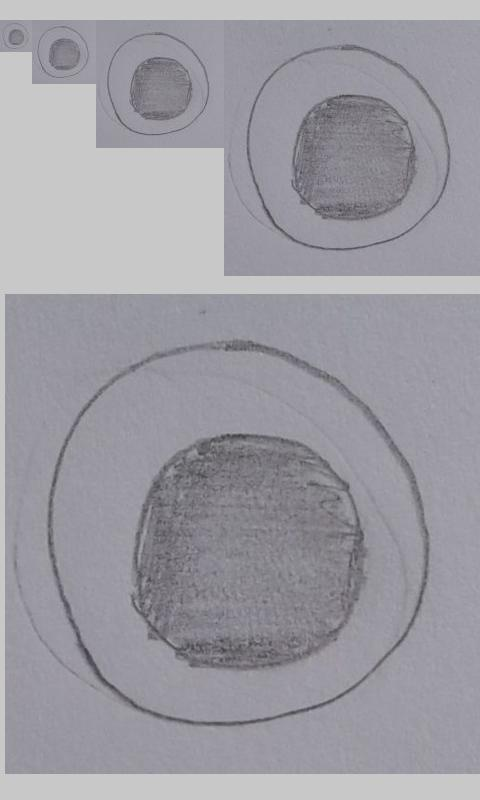radio_button: (45, 337, 432, 728), (245, 43, 452, 252), (105, 30, 211, 136), (36, 25, 90, 80), (2, 22, 30, 50)
